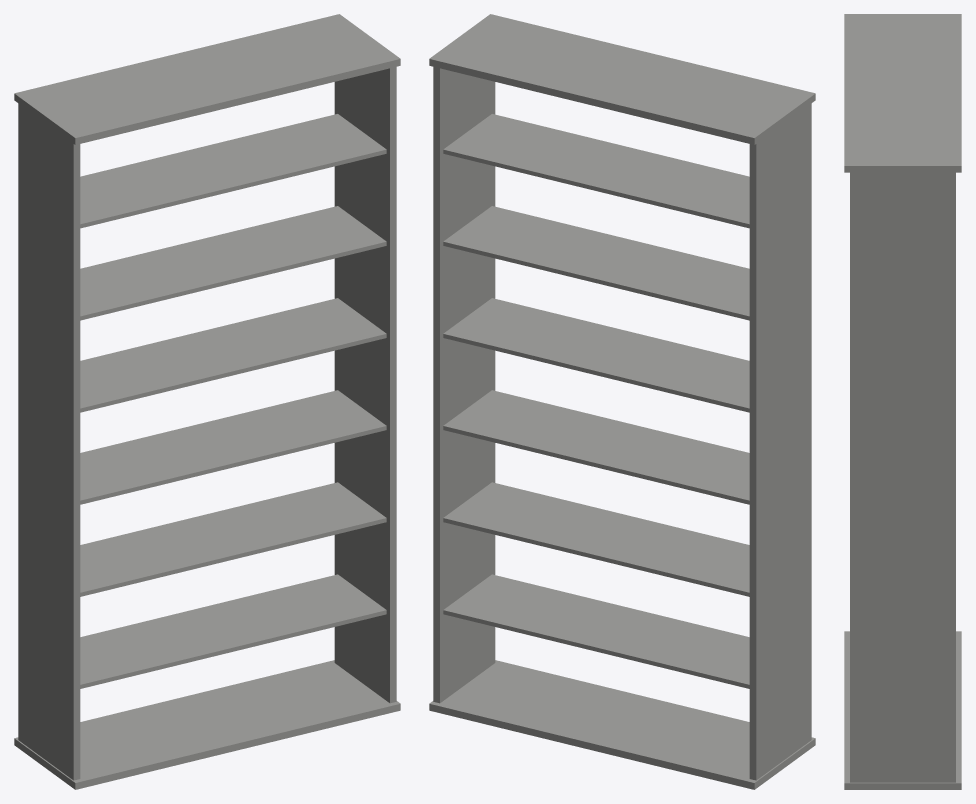
The model's file is Bookshelf.glb.
3 renders of one model, left to right at view 1: azimuth 30°, elevation 25°; view 2: azimuth 150°, elevation 25°; view 3: azimuth 270°, elevation 25°, orthographic. The views are drawn at different scales.
Parts seen in each view (by area): view 1: Bookshelf; view 2: Bookshelf; view 3: Bookshelf.
Boxes of the visible parts, left/top/right/bottom form: Bookshelf: left=14, top=14, right=400, bottom=789; Bookshelf: left=429, top=14, right=815, bottom=789; Bookshelf: left=844, top=14, right=961, bottom=789.
Size of the model in its own units: 1.13 by 2.17 by 0.3697.
Materials: 1 (1 with a texture image).
